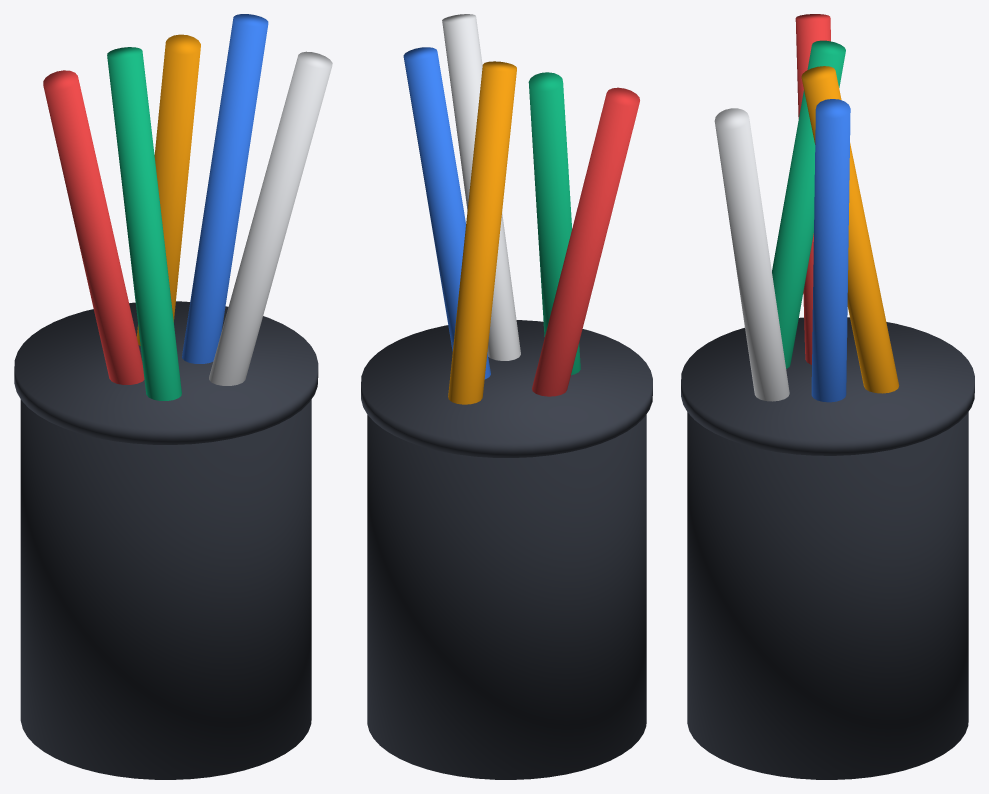
Rendered from decor_pen_cup.glb.
3 views of the same model, side by side, from view 1: azimuth 30°, elevation 25°; view 2: azimuth 150°, elevation 25°; view 3: azimuth 270°, elevation 25° (orthographic). The views are drawn at different scales.
Visible parts, largest first — view 1: decor_pen_cup; view 2: decor_pen_cup; view 3: decor_pen_cup.
Boxes of the visible parts, box(x1,y1,x2,y2) form: decor_pen_cup: box(14, 14, 332, 779); decor_pen_cup: box(361, 14, 652, 779); decor_pen_cup: box(681, 14, 974, 779).
Bounding box in the file's own units: 0.0709 × 0.1747 × 0.0709.
